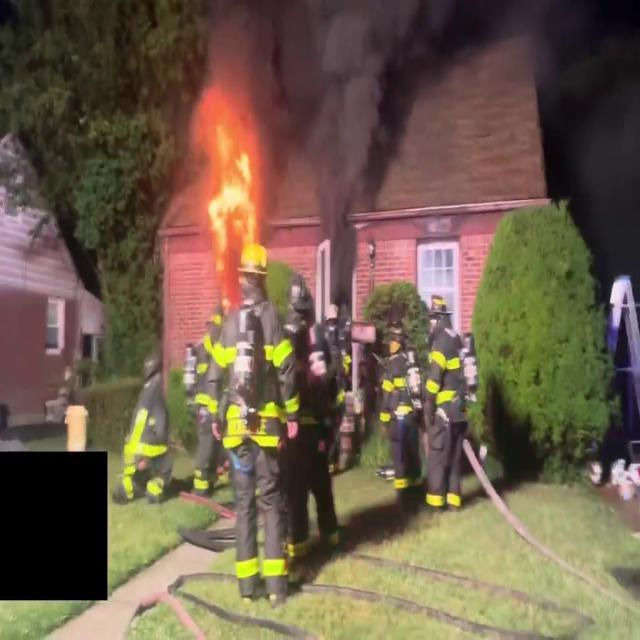Fire: (188, 79, 272, 278)
Smoke: (252, 0, 423, 201)
